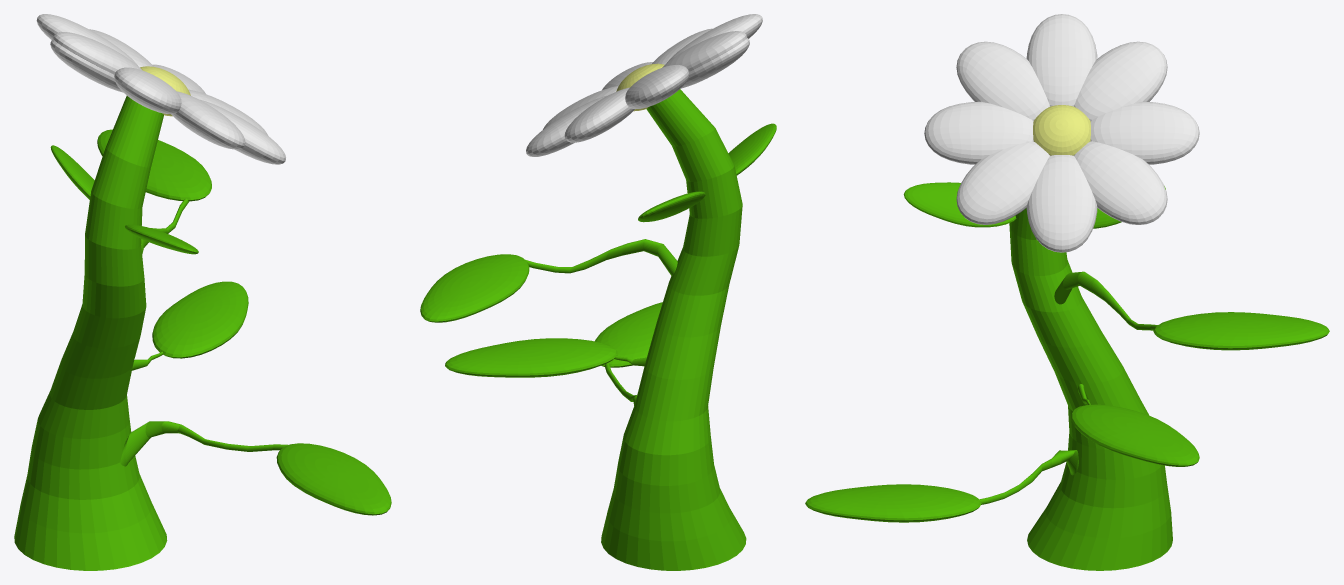
Rendered from 足場花色 (1).fbx.
The picture shows the model from 3 angles, left to right: view 1: azimuth 30°, elevation 25°; view 2: azimuth 150°, elevation 25°; view 3: azimuth 270°, elevation 25°; orthographic projection. The views are drawn at different scales.
Parts seen in each view (by area): view 1: Circle, Sphere.001, Sphere.003, Sphere.005, Cube.004, Cube.003, Sphere.002, Cube.002, Cube.005, Cube, Cube.009, Sphere.007 (+4 smaller); view 2: Circle, Sphere.003, Sphere.005, Sphere.001, Cube.008, Cube.009, Sphere.006, Cube.002, Cube.007, Sphere.007, Cube, Cube.003 (+3 smaller); view 3: Circle, Sphere.001, Sphere.005, Cube.006, Cube.007, Cube.005, Cube.004, Cube.008, Sphere.003, Cube.003, Cube.009, Cube.002 (+4 smaller).
Part boxes in pixels (x1,y1,x2,y2): Circle: [14, 96, 167, 570]; Sphere.001: [276, 443, 391, 515]; Sphere.003: [152, 281, 248, 358]; Sphere.005: [97, 129, 211, 201]; Cube.004: [171, 91, 245, 149]; Cube.003: [114, 67, 181, 113]; Sphere.002: [120, 421, 289, 466]; Cube.002: [53, 32, 142, 74]; Cube.005: [200, 99, 285, 164]; Cube: [50, 39, 122, 92]; Cube.009: [36, 14, 137, 65]; Sphere.007: [125, 224, 198, 254]; Circle: [601, 89, 746, 570]; Sphere.003: [445, 338, 617, 377]; Sphere.005: [420, 254, 529, 322]; Sphere.001: [595, 302, 662, 367]; Cube.008: [564, 87, 634, 142]; Cube.009: [625, 65, 688, 108]; Sphere.006: [525, 239, 677, 275]; Cube.002: [662, 31, 746, 71]; Cube.007: [526, 95, 607, 156]; Sphere.007: [728, 123, 776, 175]; Cube: [681, 38, 749, 88]; Cube.003: [666, 14, 762, 63]; Circle: [1009, 208, 1172, 570]; Sphere.001: [805, 484, 981, 522]; Sphere.005: [1153, 312, 1329, 350]; Cube.006: [1026, 155, 1097, 252]; Cube.007: [1074, 141, 1167, 224]; Cube.005: [956, 141, 1049, 224]; Cube.004: [924, 101, 1033, 164]; Cube.008: [1090, 101, 1199, 164]; Sphere.003: [1071, 404, 1199, 466]; Cube.003: [956, 41, 1049, 120]; Cube.009: [1074, 41, 1167, 120]; Cube.002: [1026, 14, 1097, 106].
Size of the model in its own units: 803 by 1556 by 1471.
